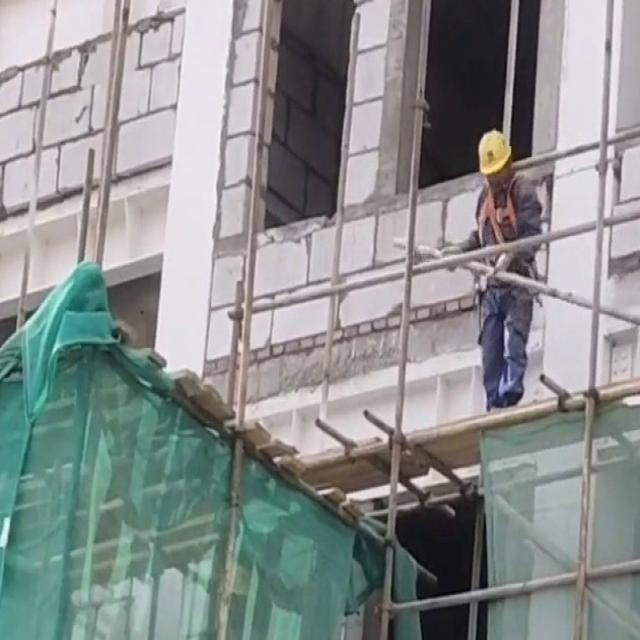Arnes_seguridad: (477, 169, 528, 247)
